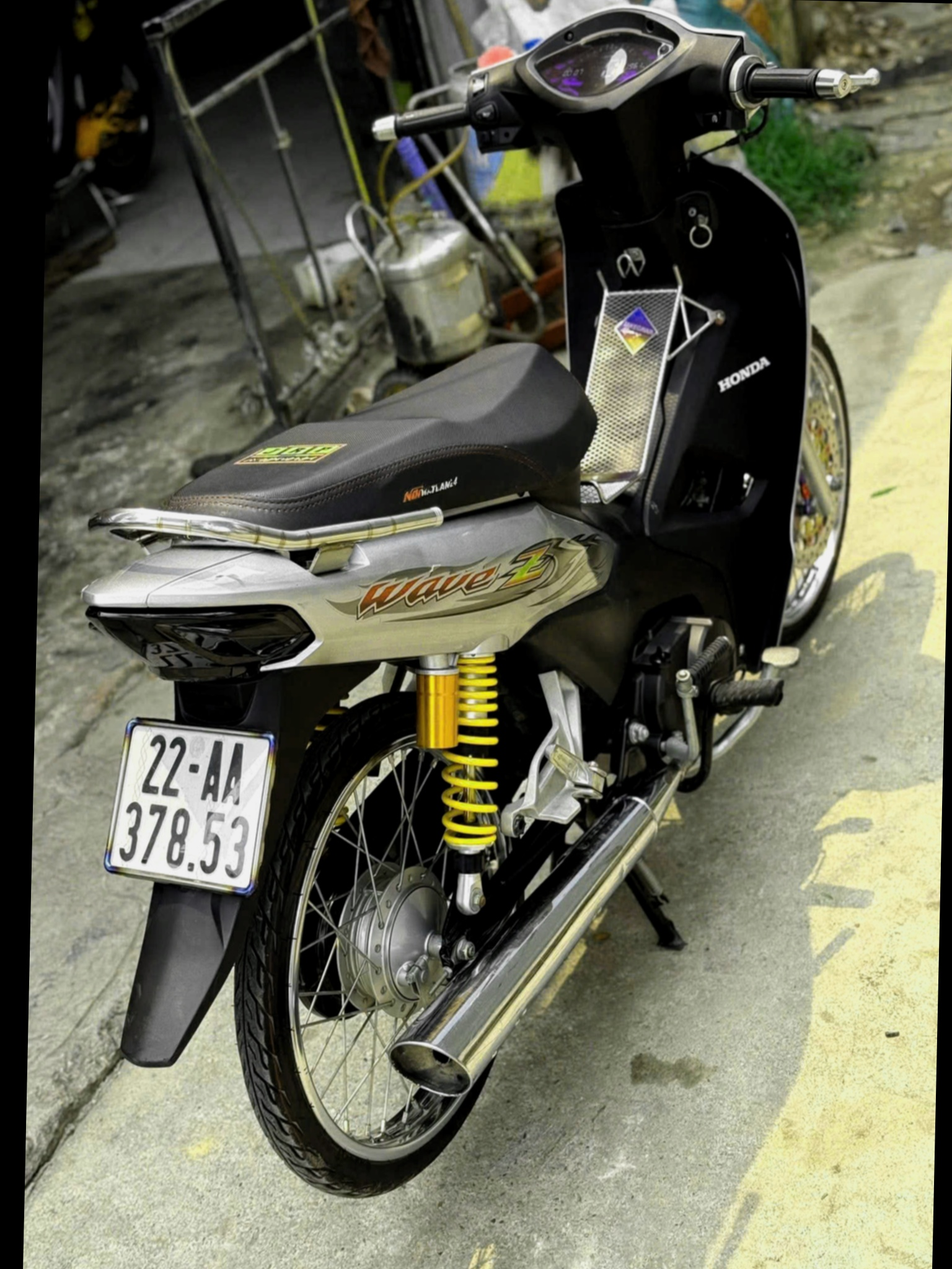Bien-so: (92, 713, 280, 896)
